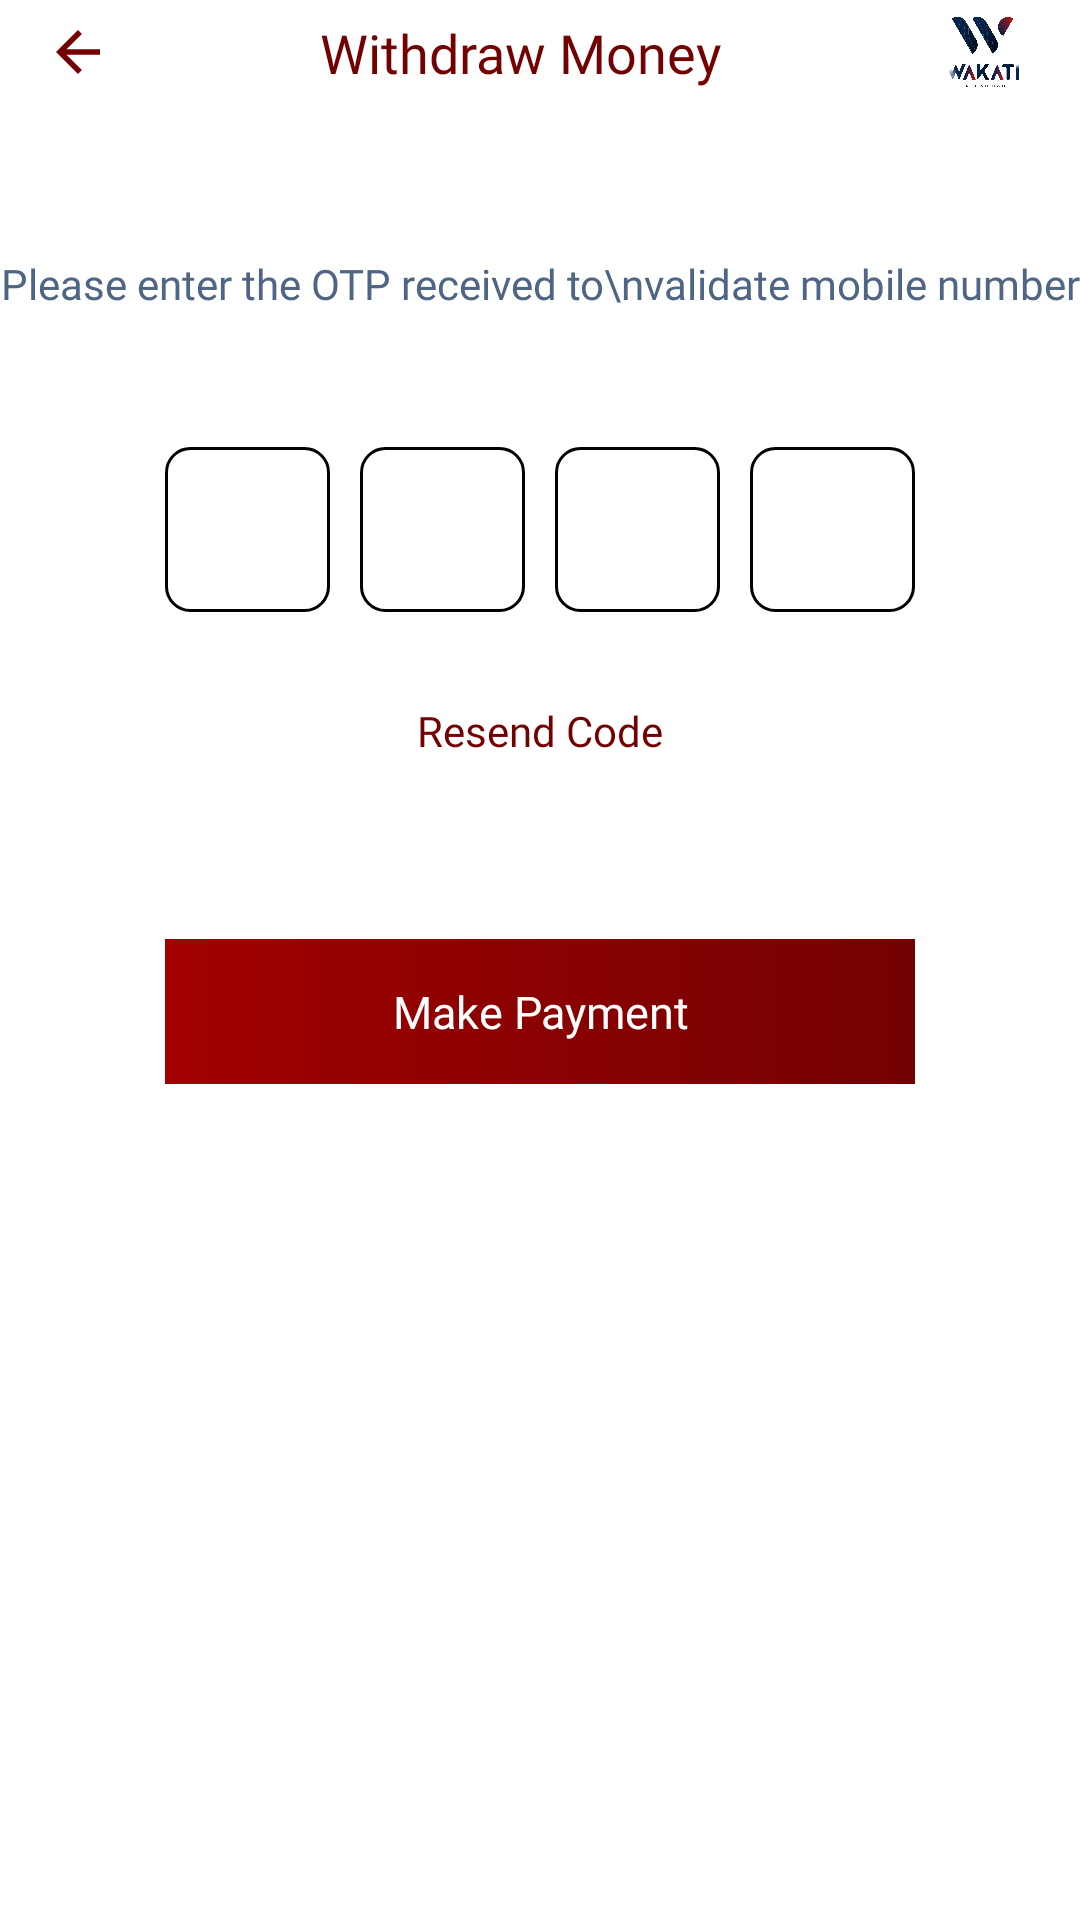

Icon bounding boxes for this 1080*1920 phone screenshot, format [x1, y1, x2, y2]:
arrow back: [56, 30, 100, 74]
